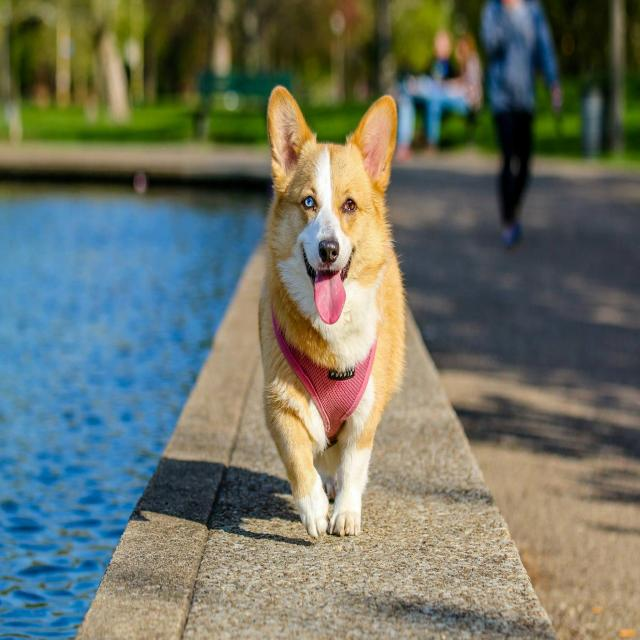dog: (259, 86, 405, 540)
